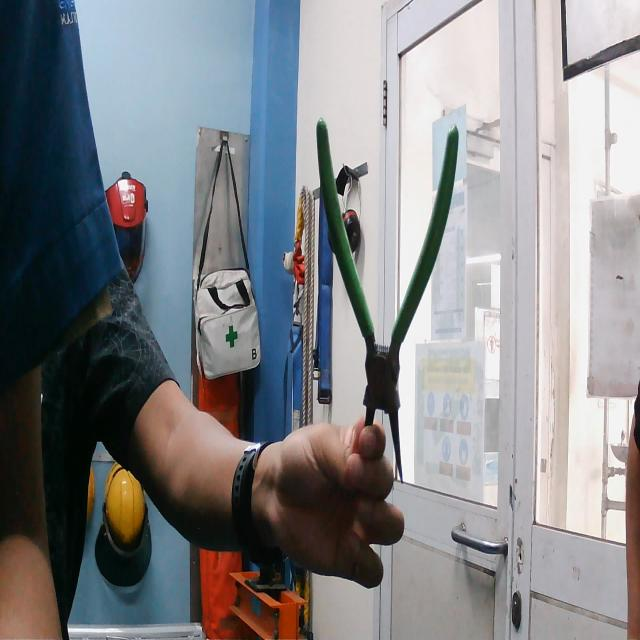tang_scun_hidrolik: (313, 110, 461, 485)
